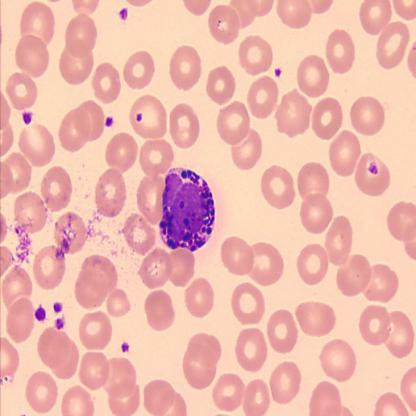Basophil: (154, 164, 218, 255)
